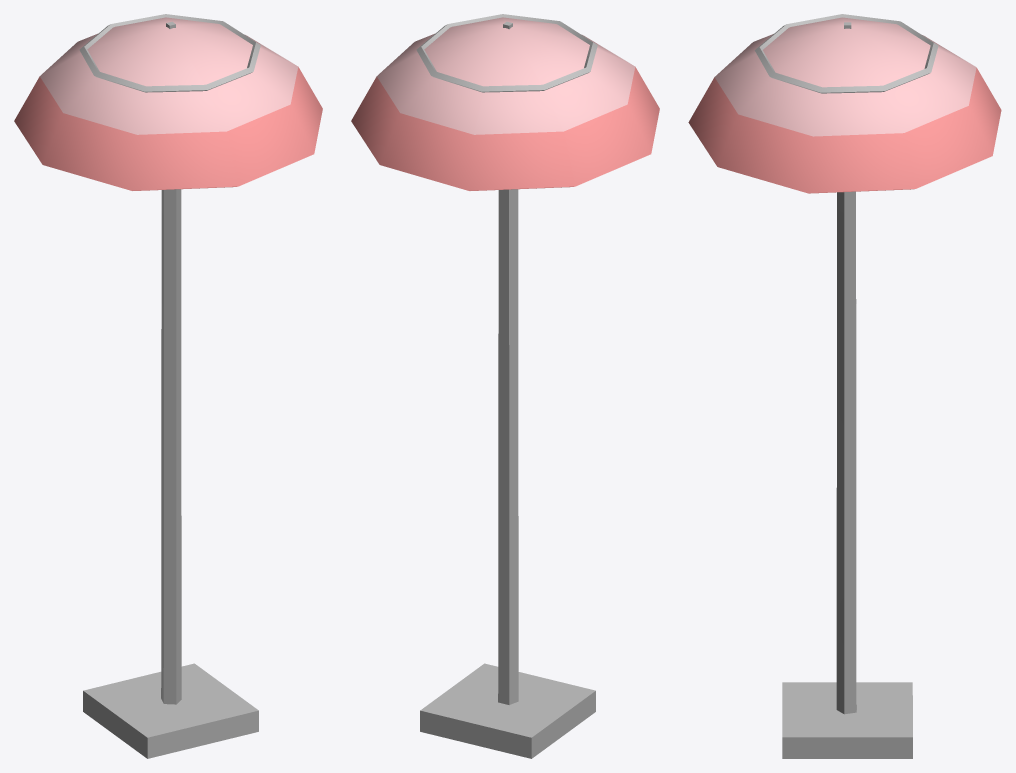
Rendered from lamp_027.glb.
The picture shows the model from 3 angles, left to right: view 1: azimuth 30°, elevation 25°; view 2: azimuth 150°, elevation 25°; view 3: azimuth 270°, elevation 25°; orthographic projection.
Parts seen in each view (by area): view 1: lamp_027; view 2: lamp_027; view 3: lamp_027.
Boxes of the visible parts, x1,y1,x2,y2 form: lamp_027: [14, 14, 322, 758]; lamp_027: [351, 14, 659, 758]; lamp_027: [688, 14, 1001, 758].
Size of the model in its own units: 0.6555 by 1.63 by 0.6547.
Materials: 1 (1 with a texture image).
